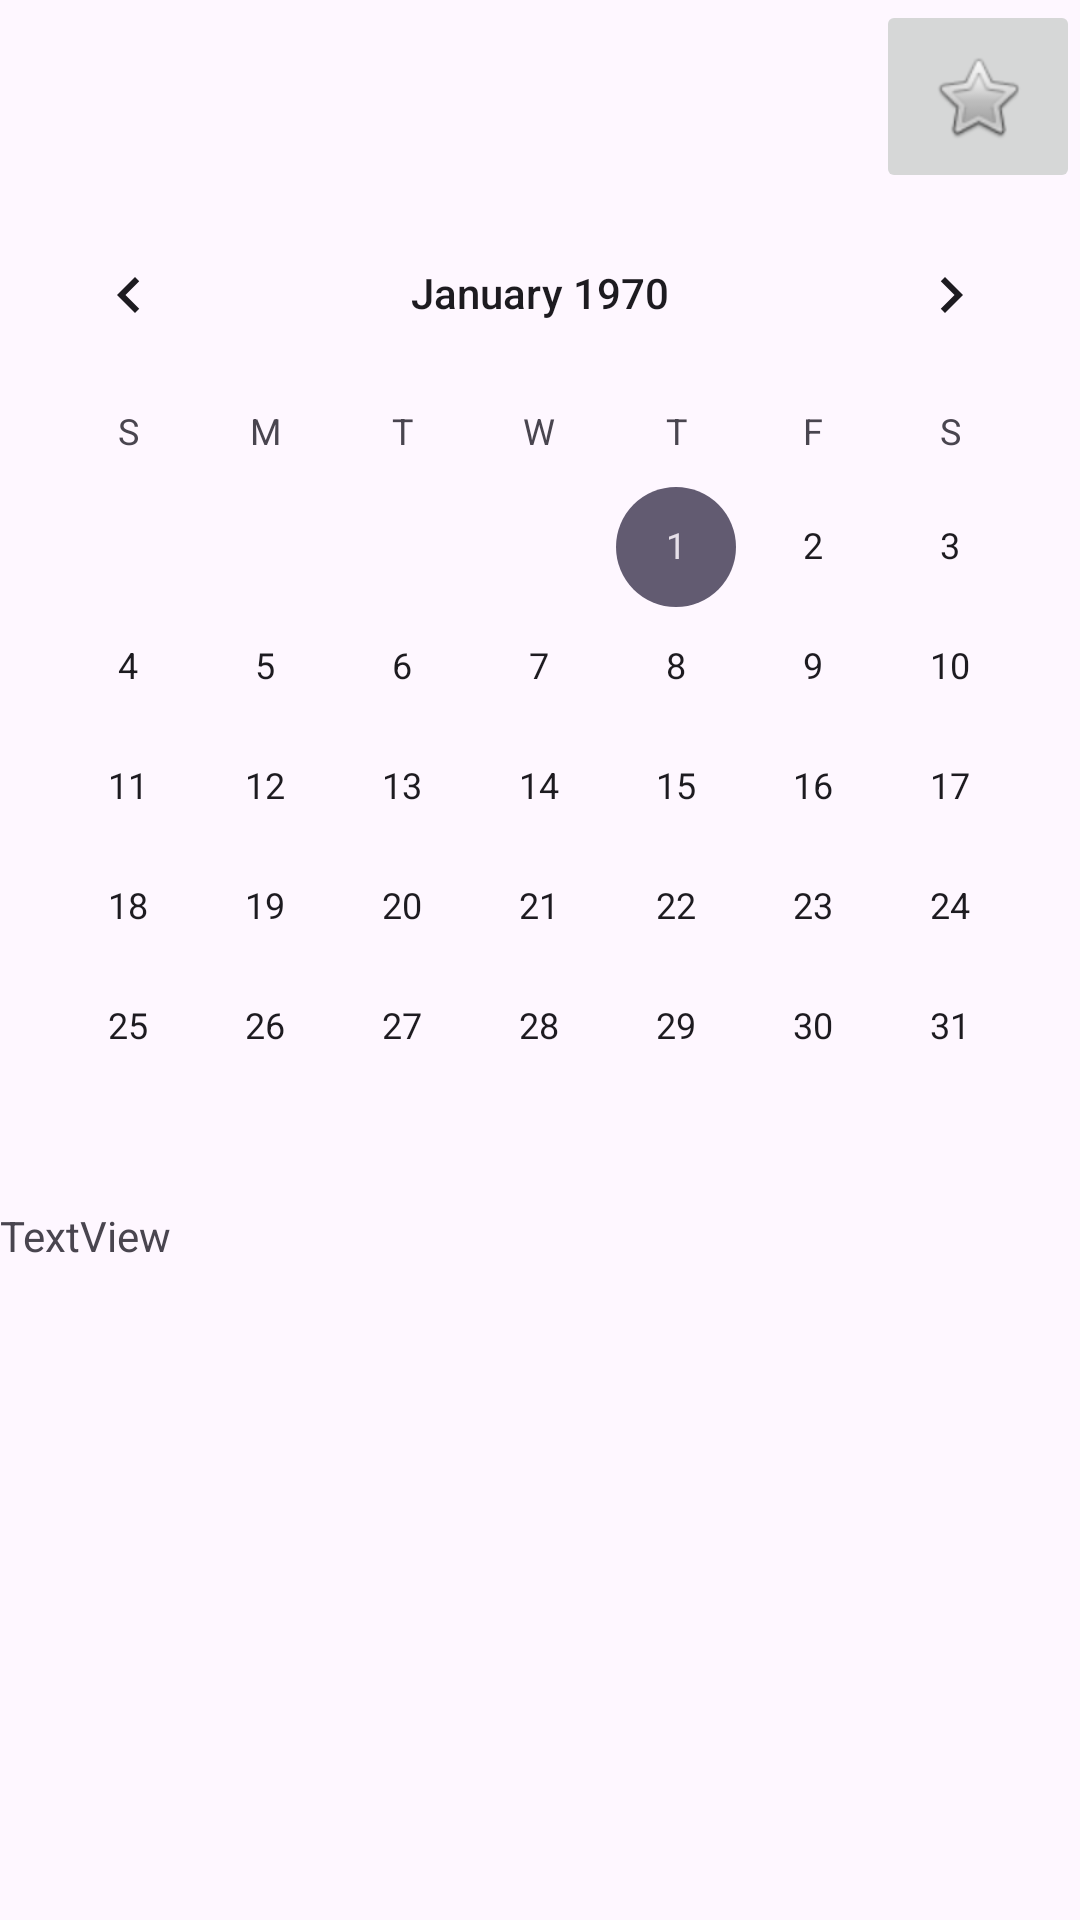

Point at icon controls on the screen. Image size 1080*1920, points as point (x, y).
star: point (978, 96)
